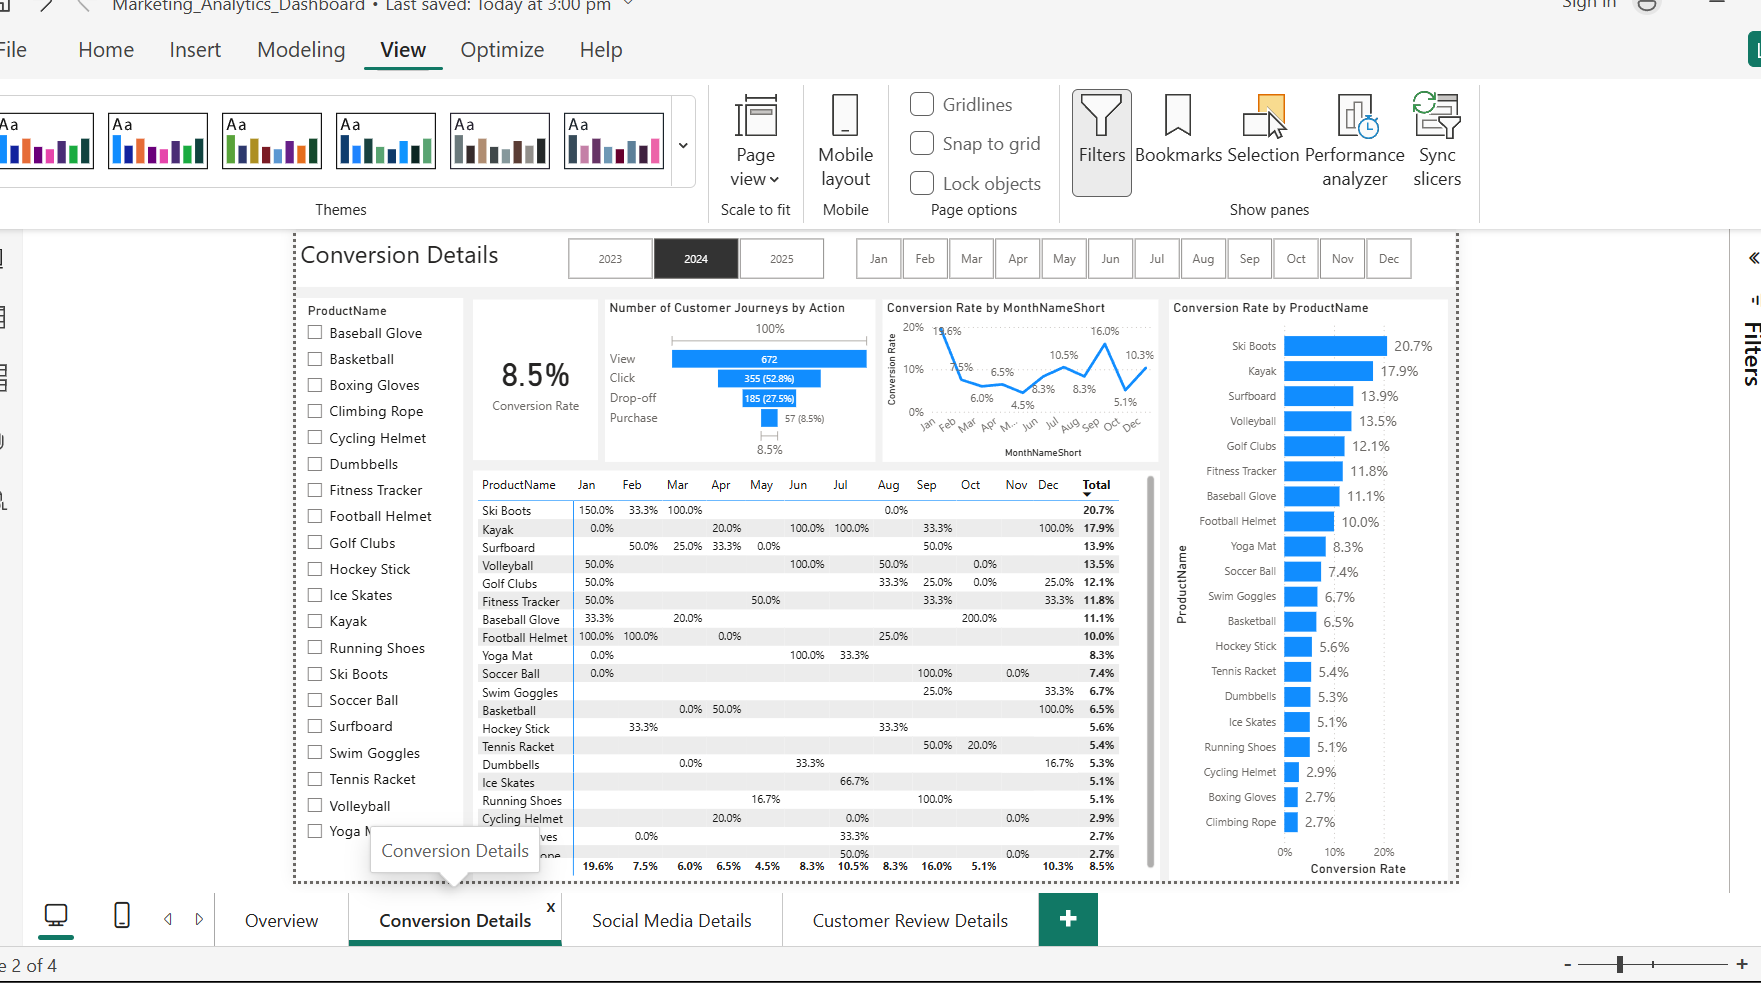

The dashboard page shown, as its layout file describes it:
{"tool":"powerbi","page":{"name":"Conversion Details","canvas":[1280,720],"ordinal":1},"visuals":[{"type":"textbox","box":[0,3.6,1280,60.7],"z":0},{"type":"slicer","fields":{"Values":["dim_products.ProductName"]},"box":[0,76.1,184.4,643.6],"z":1000},{"type":"card","fields":{"Values":["_Calculations.Conversion Rate"]},"box":[195.1,78.5,138,177.2],"z":2000},{"type":"slicer","fields":{"Values":["Calendar.Year"]},"box":[274.8,3.6,331.9,58.3],"z":3000},{"type":"slicer","fields":{"Values":["Calendar.MonthNameShort"]},"box":[592.4,3.6,662.6,58.3],"z":4000},{"type":"lineChart","fields":{"Y":["_Calculations.Conversion Rate"],"Category":["Calendar.MonthNameShort"]},"box":[648.3,78.5,304.5,179.6],"z":5000},{"type":"clusteredBarChart","fields":{"Category":["dim_products.ProductName"],"Y":["_Calculations.Conversion Rate"]},"box":[964.8,78.5,308.1,641.2],"z":6000},{"type":"pivotTable","fields":{"Values":["_Calculations.Conversion Rate"],"Rows":["dim_products.ProductName"],"Columns":["Calendar.MonthNameShort"]},"box":[195.1,266.5,757.8,452],"z":7000},{"type":"funnel","fields":{"Y":["_Calculations.Number of Customer Journeys"],"Category":["fact_customer_journey.Action"]},"box":[341.4,78.5,298.6,179.6],"z":8000}]}

Visuals, with their boxes on the page's 1280x720 design canvas (x1, y1, x2, y2). These are canvas units, not pixel positions in the 1761x983 screenshot, which may show the page scaled, cropped or inside an application window:
textbox: <box>0,4,1280,64</box>
slicer - dim_products.ProductName: <box>0,76,184,720</box>
card - _Calculations.Conversion Rate: <box>195,78,333,256</box>
slicer - Calendar.Year: <box>275,4,607,62</box>
slicer - Calendar.MonthNameShort: <box>592,4,1255,62</box>
lineChart - _Calculations.Conversion Rate x Calendar.MonthNameShort: <box>648,78,953,258</box>
clusteredBarChart - dim_products.ProductName x _Calculations.Conversion Rate: <box>965,78,1273,720</box>
pivotTable - _Calculations.Conversion Rate x dim_products.ProductName: <box>195,266,953,718</box>
funnel - _Calculations.Number of Customer Journeys x fact_customer_journey.Action: <box>341,78,640,258</box>
